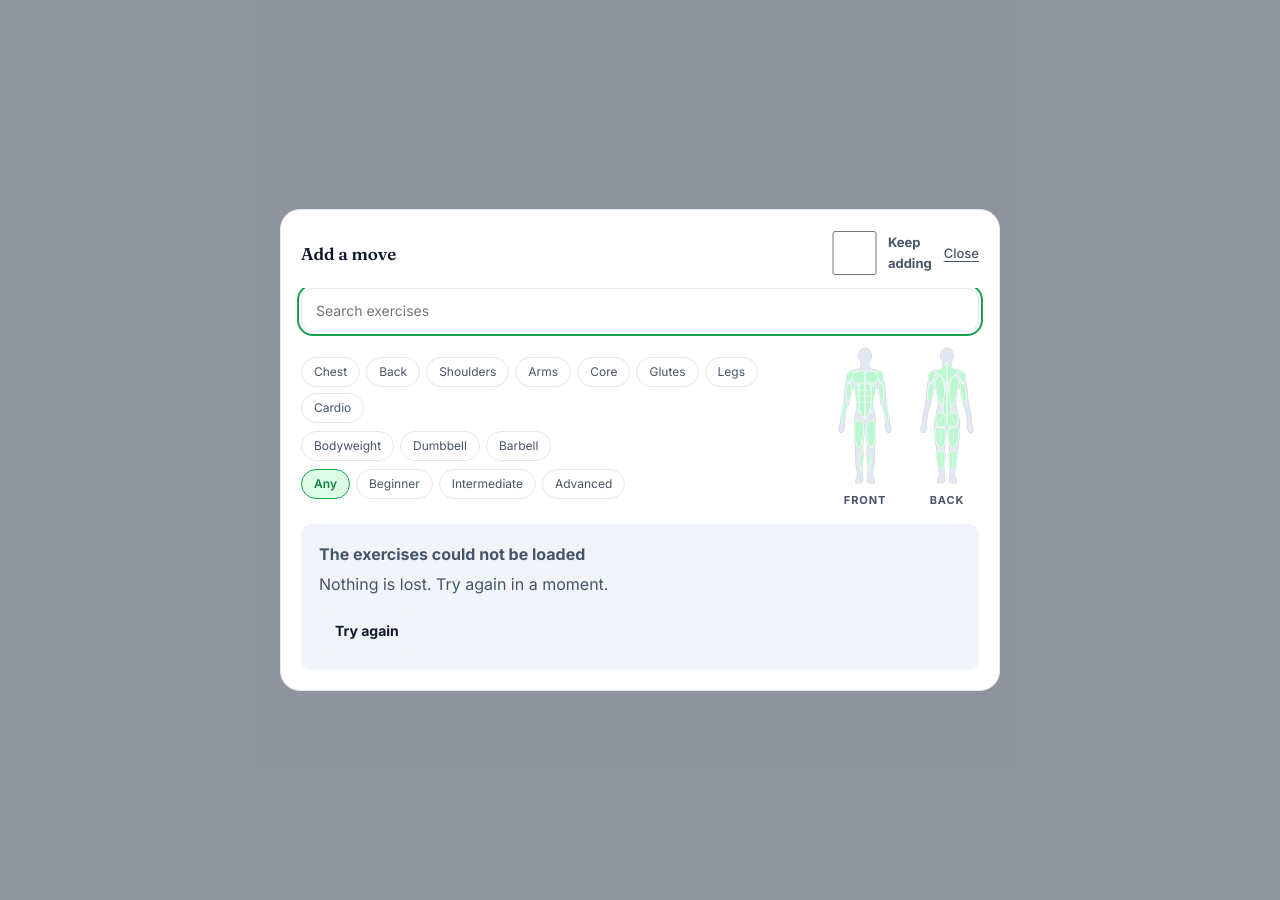
Test: ExercisePickerComponent › paging and states › shows the error state and retries
The image size is (1280, 900).
Click the button "Try again" at {"x": 367, "y": 631}, box [319,610,415,652]
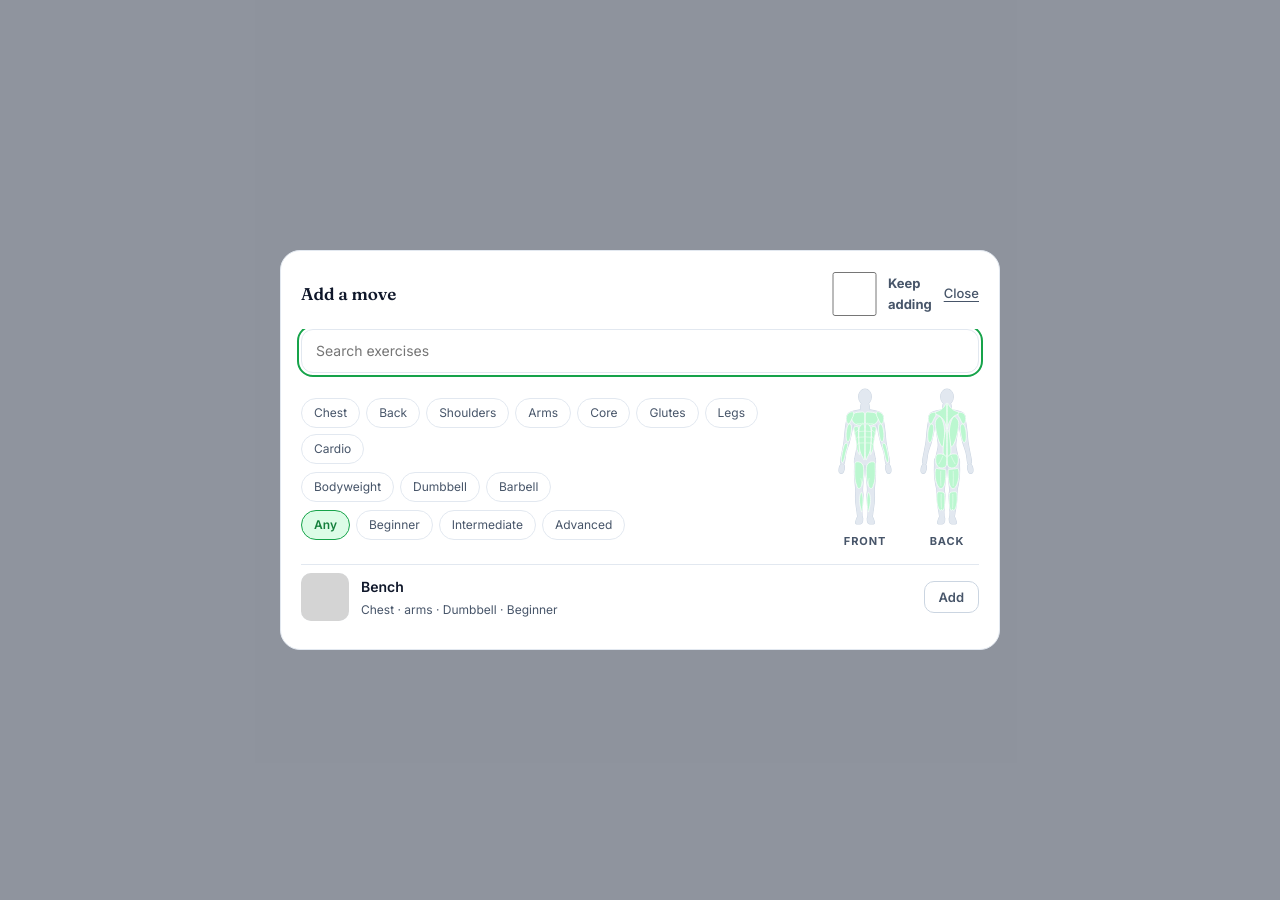
Now the number of list items is 1, box [301,564,979,629]
